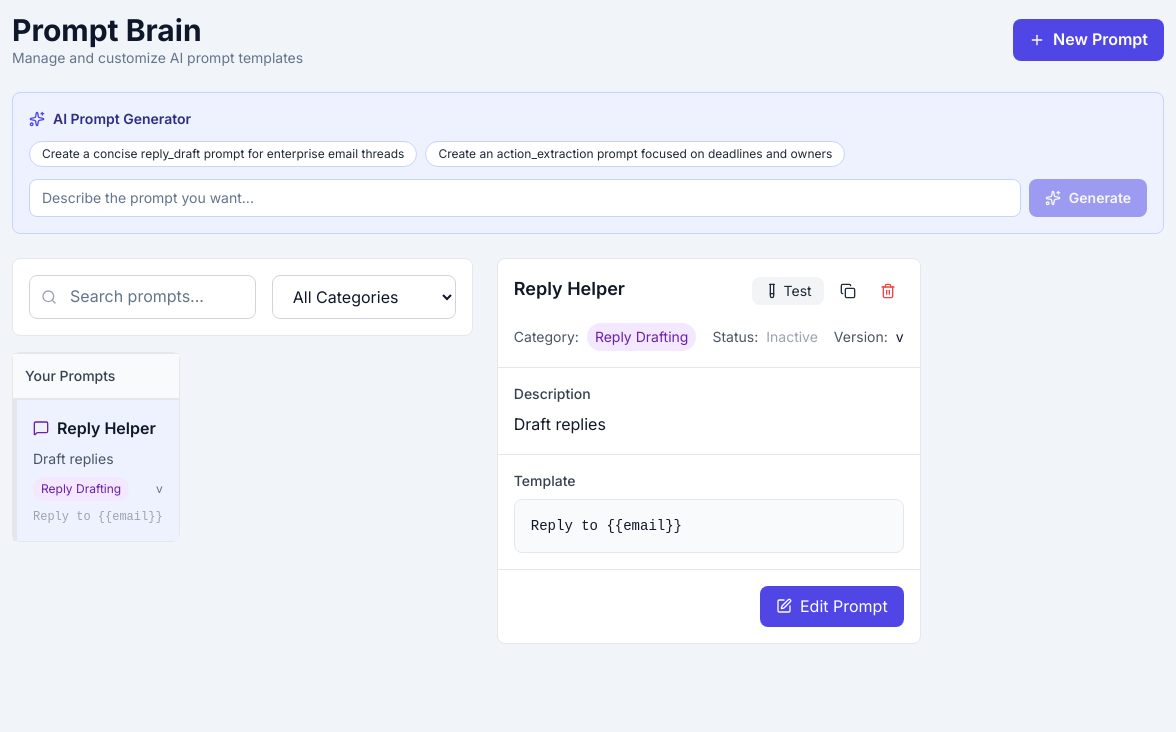
Test: prompt manager › shows an AI draft generation failure
The image size is (1176, 732).
Step 1. Type "Draft a reply" into the field with placeholder "Describe the prompt you want..." → (525, 198), box [29,179,1021,217]
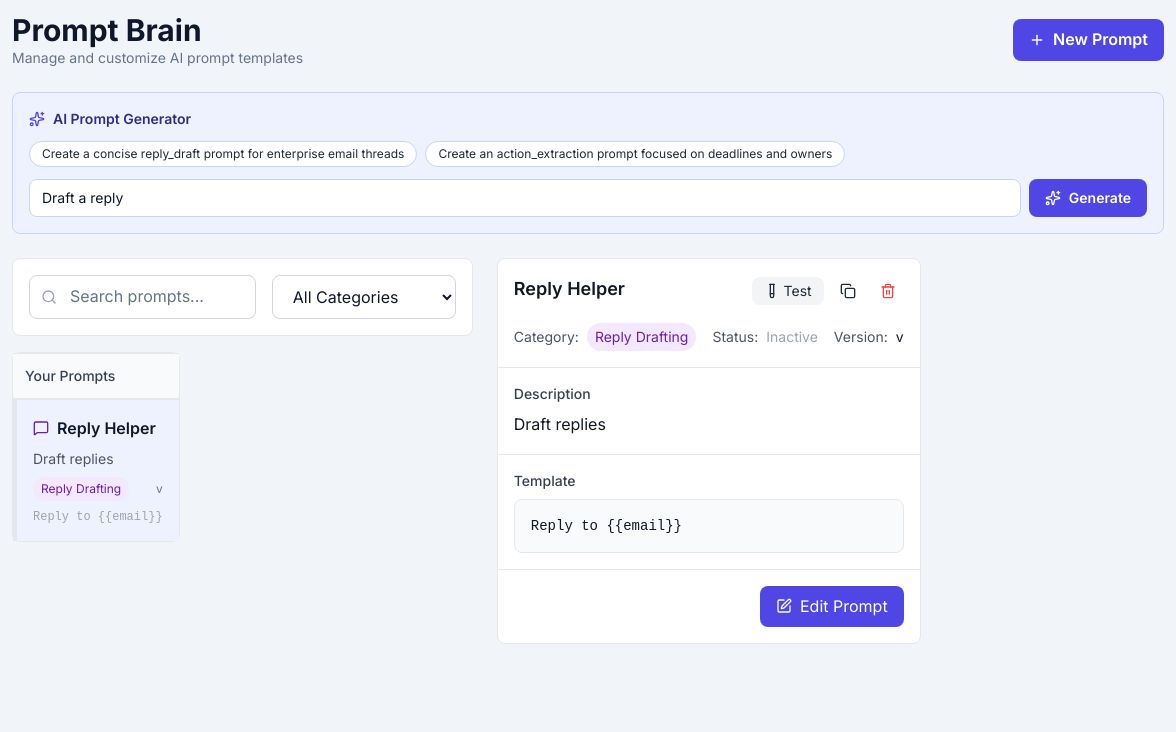
Step 2. Click the button "Generate" → (1088, 198), box [1029,179,1147,217]
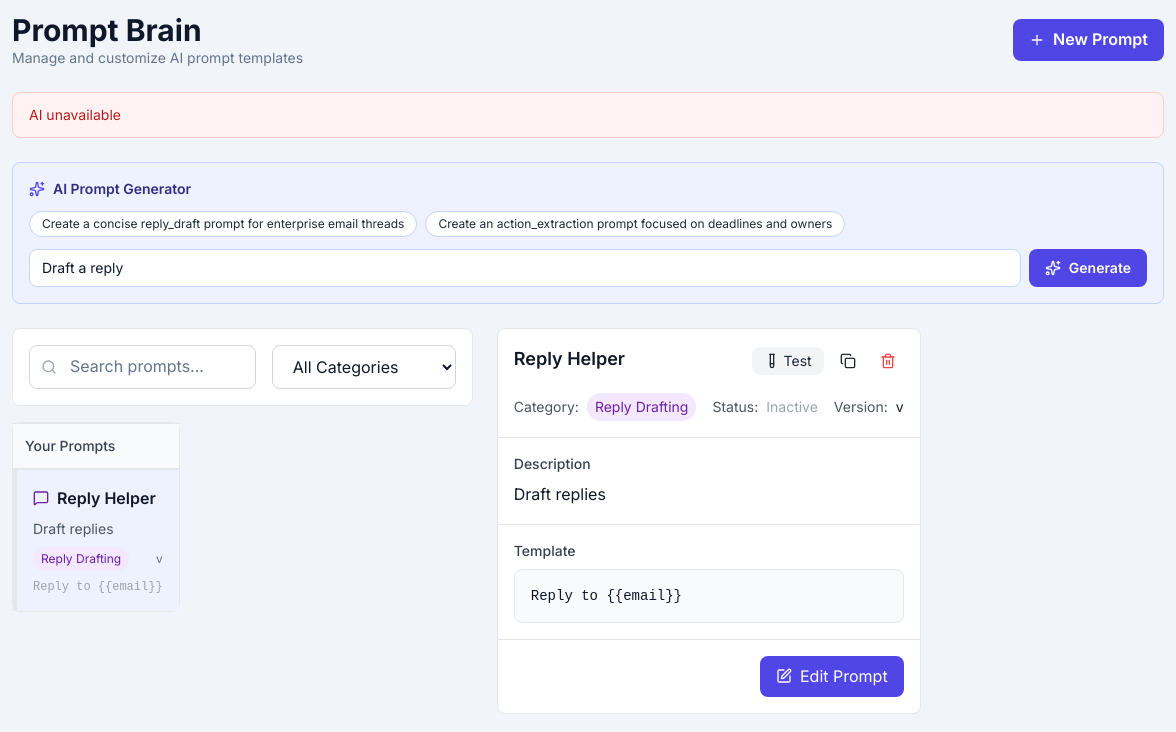
Now the text "AI unavailable" is shown, box [12,92,1164,138]
